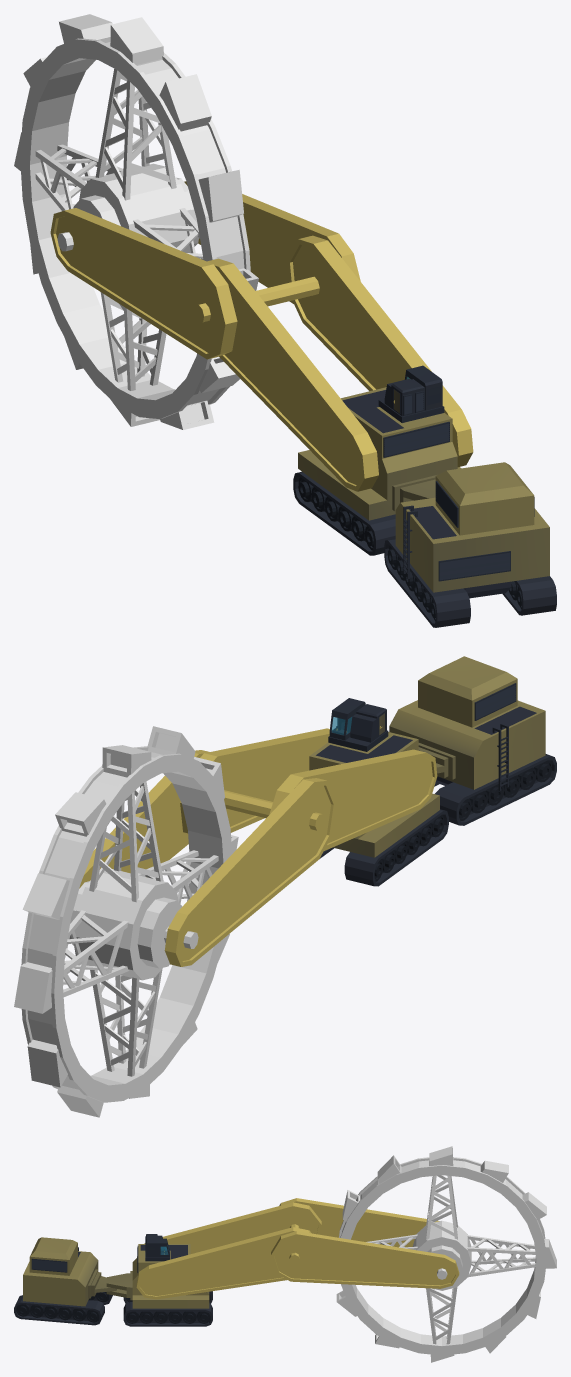
Rendered from EarthMover.fbx.
The picture shows the model from 3 angles, top to bottom: view 1: azimuth 30°, elevation 25°; view 2: azimuth 150°, elevation 25°; view 3: azimuth 270°, elevation 25°; orthographic projection. The views are drawn at different scales.
Visible parts, largest first — view 1: EarthMover, EarthMover_Wheel; view 2: EarthMover, EarthMover_Wheel; view 3: EarthMover, EarthMover_Wheel.
Part boxes in pixels (x1=…): EarthMover: x1=50, y1=181, x2=556, y2=627; EarthMover_Wheel: x1=14, y1=14, x2=258, y2=429; EarthMover: x1=79, y1=656, x2=556, y2=966; EarthMover_Wheel: x1=14, y1=726, x2=238, y2=1117; EarthMover: x1=14, y1=1198, x2=459, y2=1326; EarthMover_Wheel: x1=336, y1=1146, x2=556, y2=1362.
Size of the model in its own units: 1884 by 4419 by 10426.
